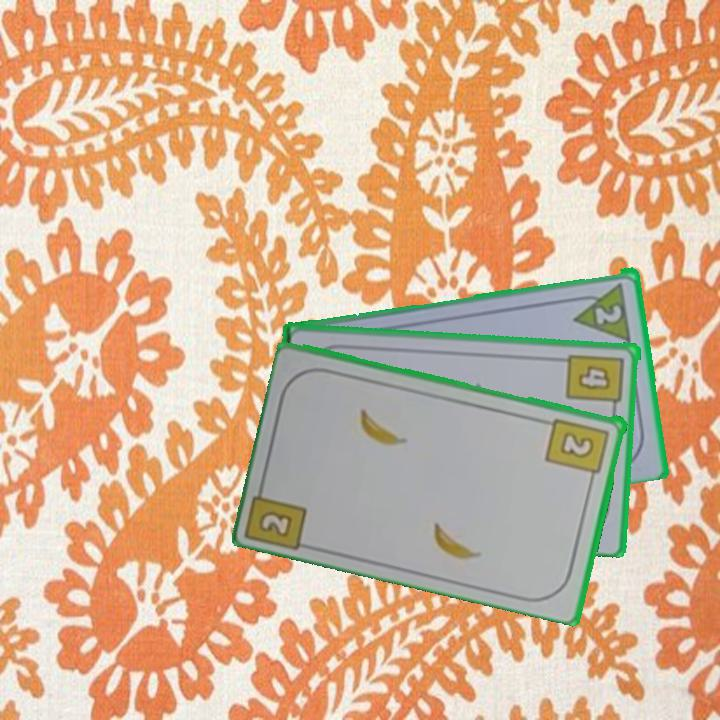2b: (543, 414, 612, 485), (255, 507, 296, 540)
2p: (568, 278, 634, 342)
4b: (564, 350, 628, 415)
